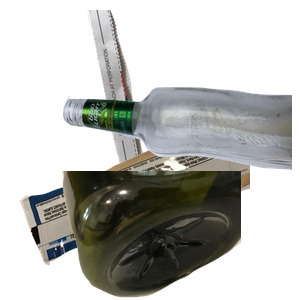glass: (60, 84, 300, 260)
paper: (85, 10, 224, 190)
plastic: (60, 171, 300, 300)
trash: (17, 123, 257, 300)
